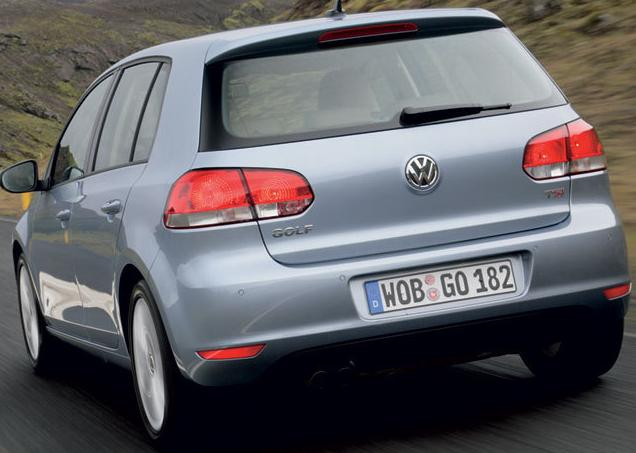back_view: (178, 123, 623, 362)
backlight: (148, 154, 322, 230)
side_glass: (41, 59, 168, 181)
